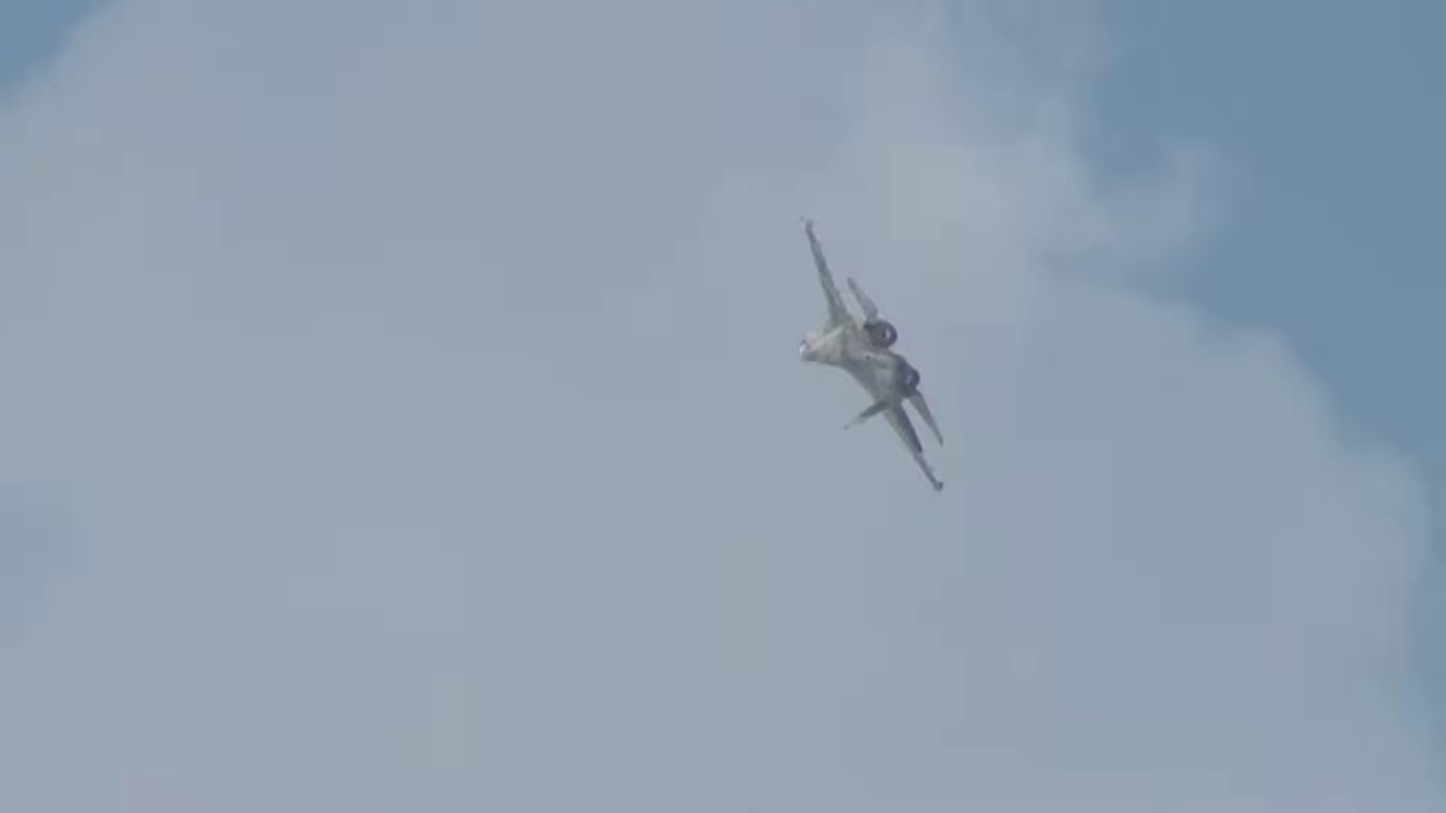Su35: (783, 204, 960, 499)
